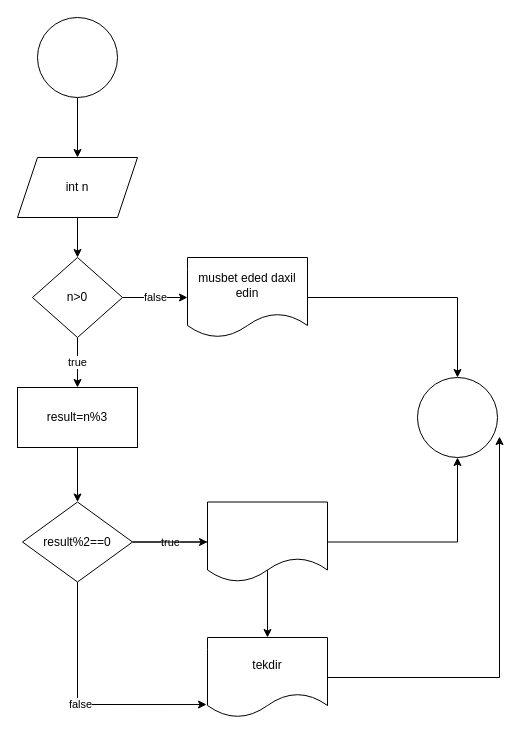
The diagram is 525 pixels wide and 735 high, and some of its shapes have lost their labels. The centre of each missing label's shape, as x and y in pixels:
"cutdur" goes at [267,541].
"End" goes at [457,417].
"Start" goes at [77,57].
